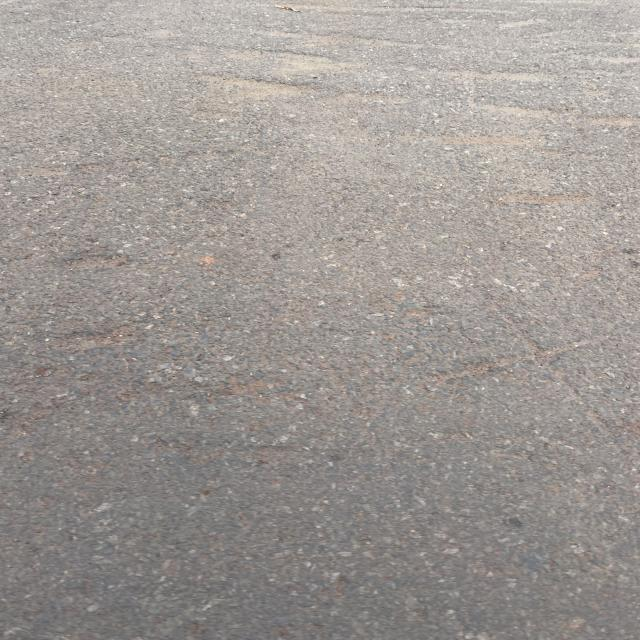D40: (441, 261, 638, 506)
